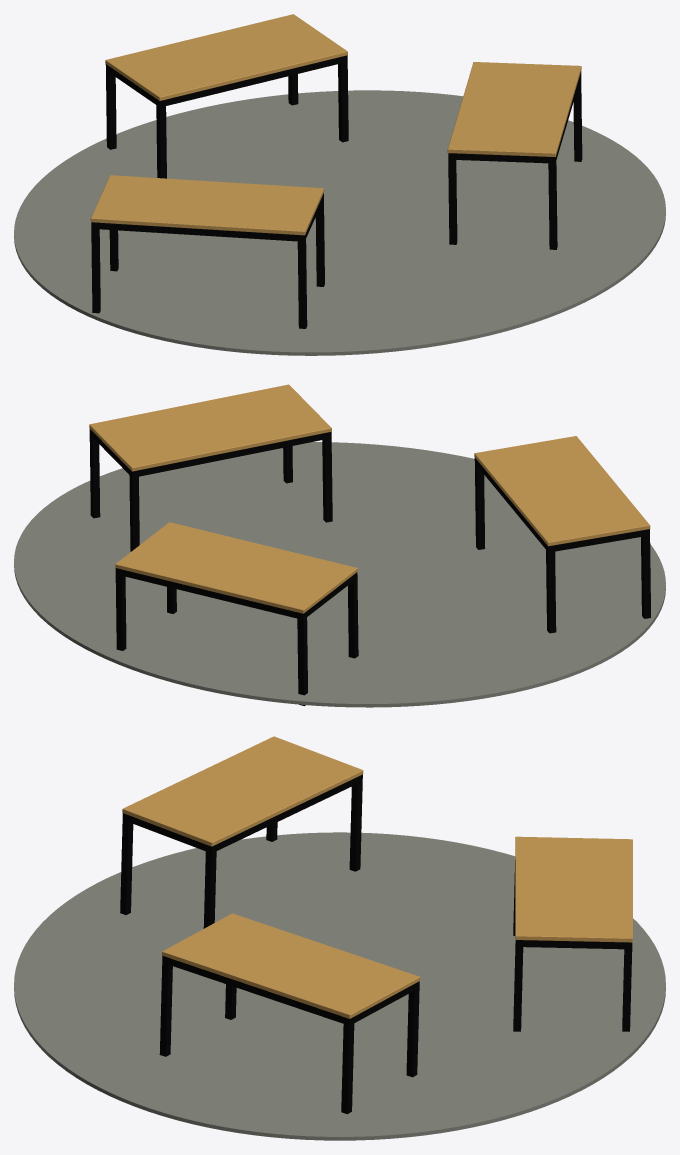
Rendered from level.glb.
3 views of the same model, one above another, from view 1: azimuth 30°, elevation 25°; view 2: azimuth 150°, elevation 25°; view 3: azimuth 270°, elevation 25° (orthographic). The views are drawn at different scales.
Bounding box in the file's own units: 0.4598 × 0.0818 × 0.4159.
